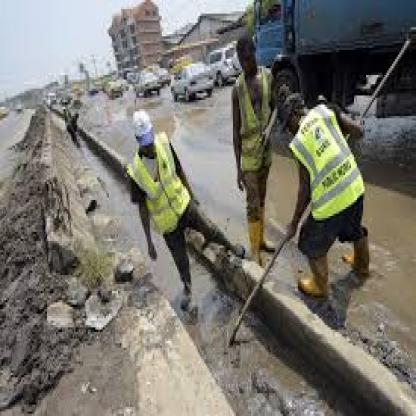car: (203, 35, 272, 85), (168, 57, 221, 111), (146, 71, 172, 105)
